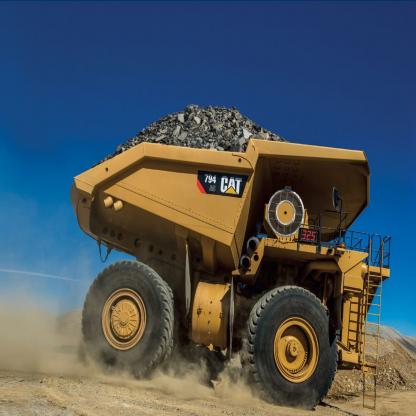dump_truck: (73, 94, 383, 407)
